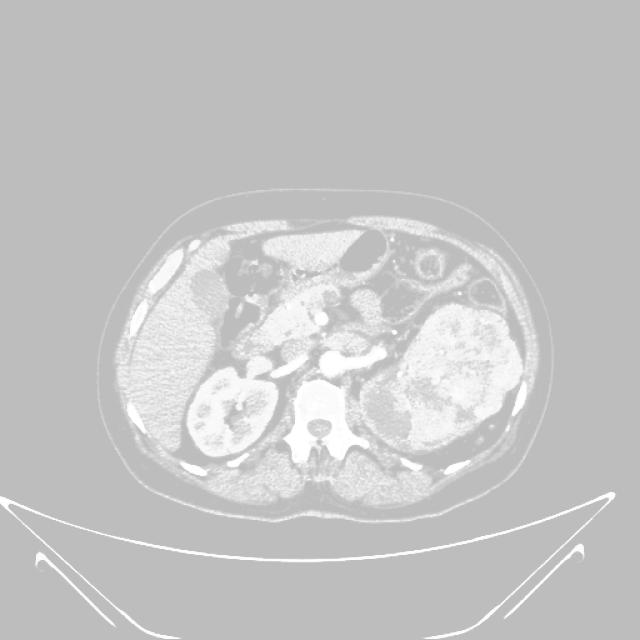TUMOR: (161, 338, 524, 465)
